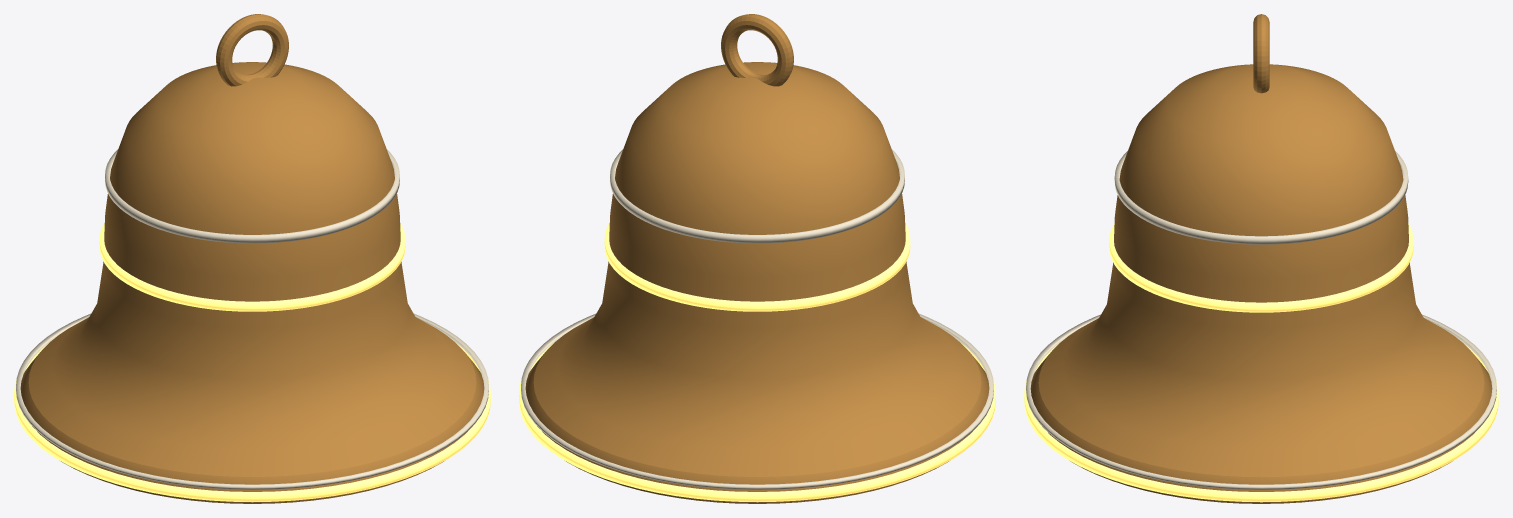
Rendered from GB_GreatBell.glb.
3 views of the same model, side by side, from view 1: azimuth 30°, elevation 25°; view 2: azimuth 150°, elevation 25°; view 3: azimuth 270°, elevation 25° (orthographic).
Parts seen in each view (by area): view 1: Dome, Wall; view 2: Dome, Wall; view 3: Dome, Wall.
Part boxes in pixels (box(x1,y1,x2,y2)): Dome: box(28, 14, 476, 476); Wall: box(14, 313, 490, 503); Dome: box(533, 14, 981, 476); Wall: box(519, 313, 995, 503); Dome: box(1038, 14, 1484, 477); Wall: box(1024, 314, 1498, 503).
Bounding box in the file's own units: 26.2 × 23.65 × 26.2.
